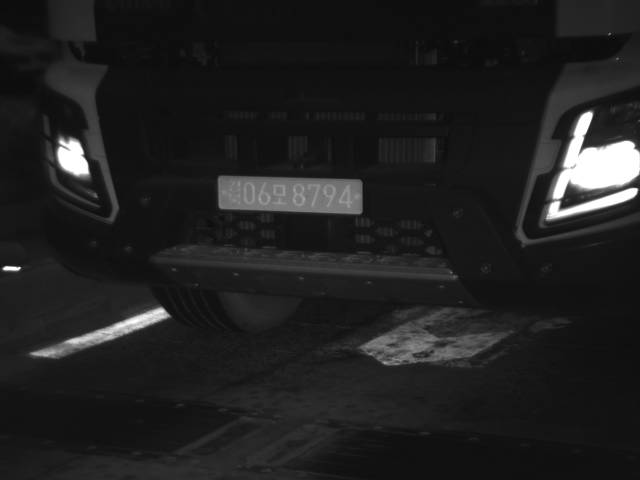car: (22, 1, 639, 333)
plate: (216, 174, 364, 214)
